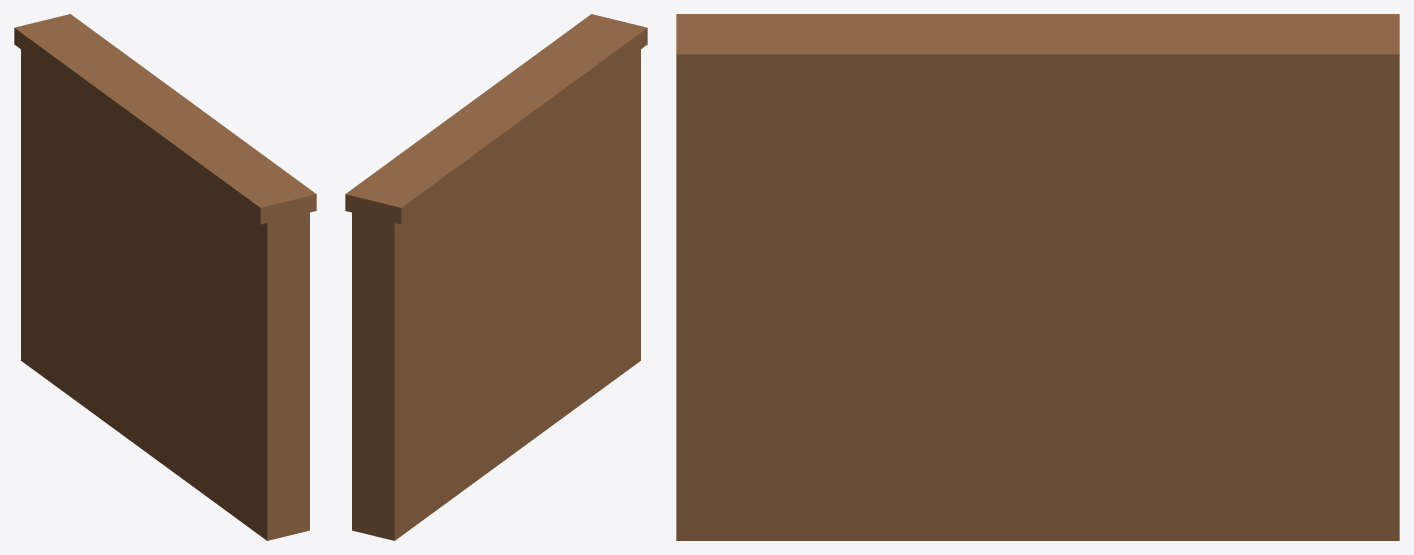
Rendered from sm_paredequalquer.fbx.
The picture shows the model from 3 angles, left to right: view 1: azimuth 30°, elevation 25°; view 2: azimuth 150°, elevation 25°; view 3: azimuth 270°, elevation 25°; orthographic projection. The views are drawn at different scales.
Parts seen in each view (by area): view 1: sm_paredequalquer; view 2: sm_paredequalquer; view 3: sm_paredequalquer.
Part boxes in pixels (x1,y1,x2,y2): sm_paredequalquer: (14, 14, 316, 540); sm_paredequalquer: (345, 14, 647, 540); sm_paredequalquer: (676, 14, 1399, 540).
Bounding box in the file's own units: 0.5272 × 3 × 4.
